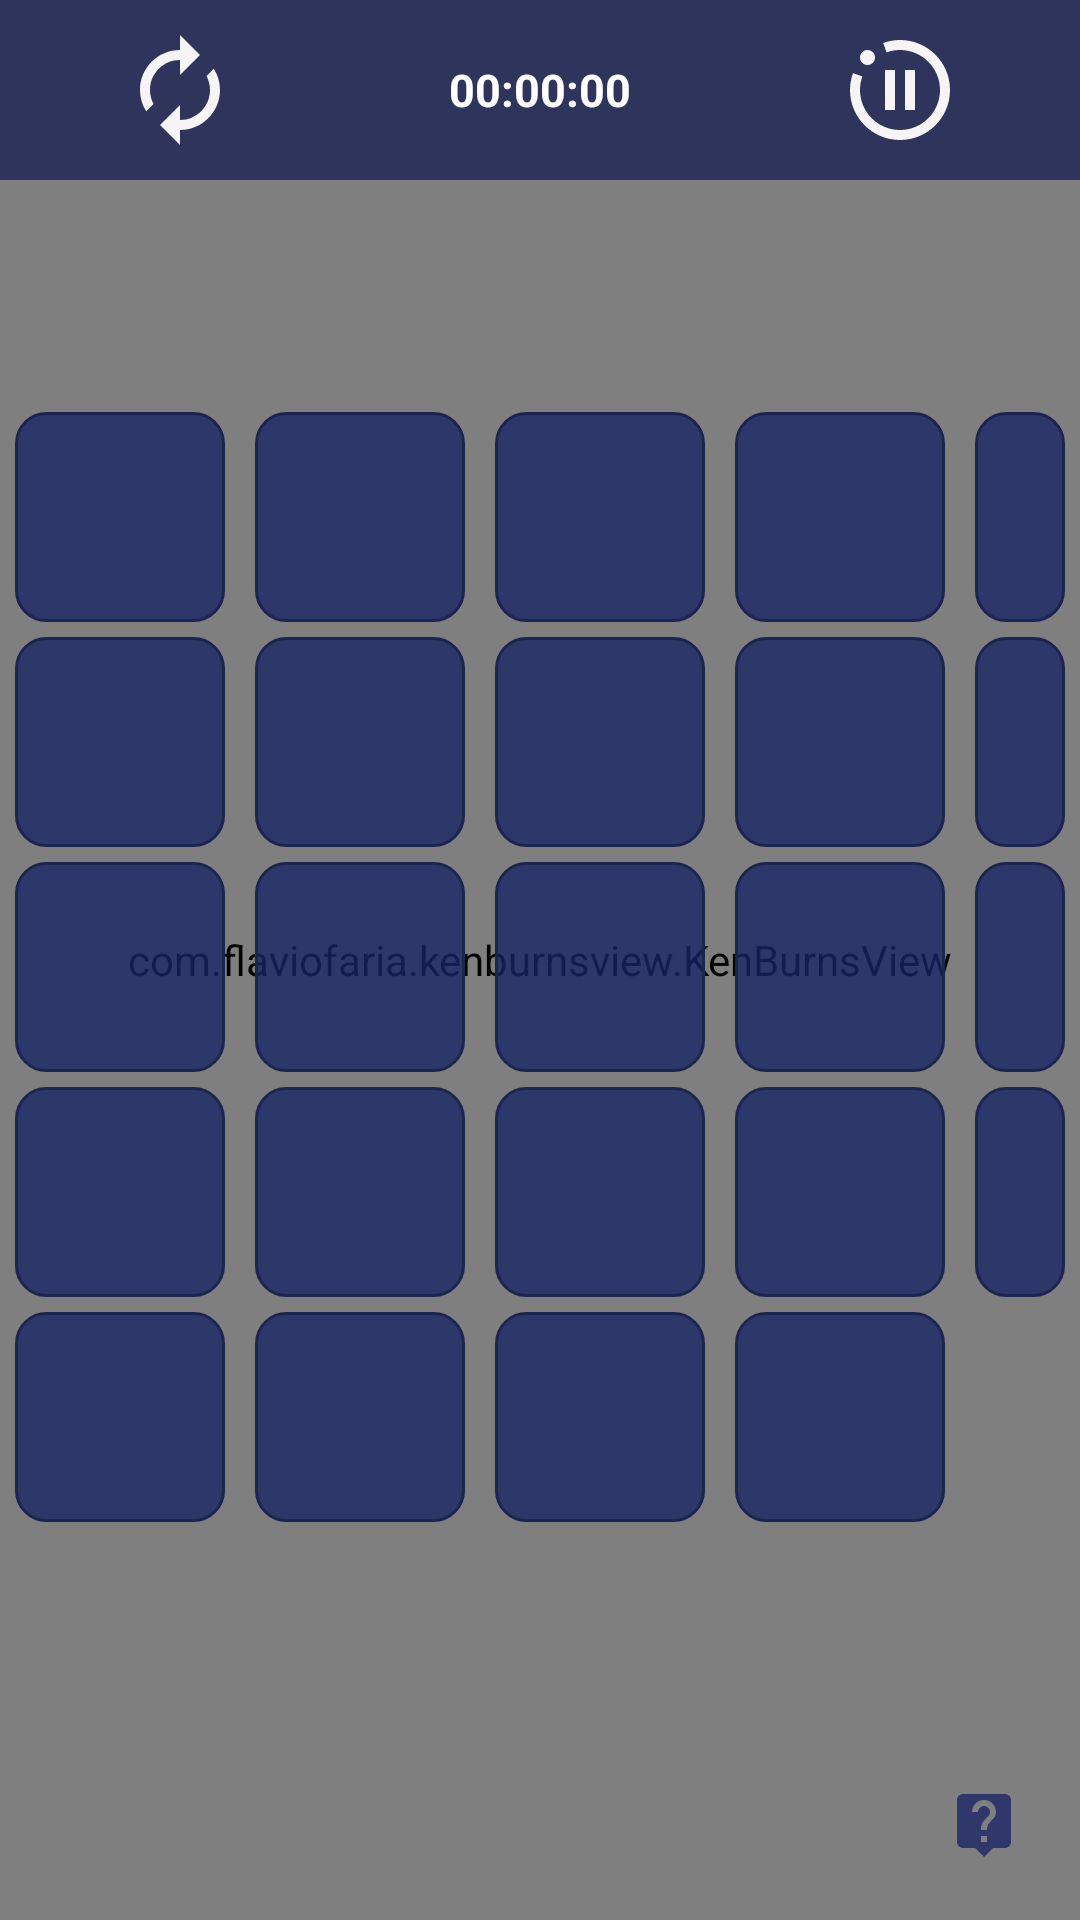

Where to tap for icons on this 1080×1920 app screen, as point (x, y):
Help: point (984, 1825)
pause: point (900, 90)
replay: point (180, 90)
